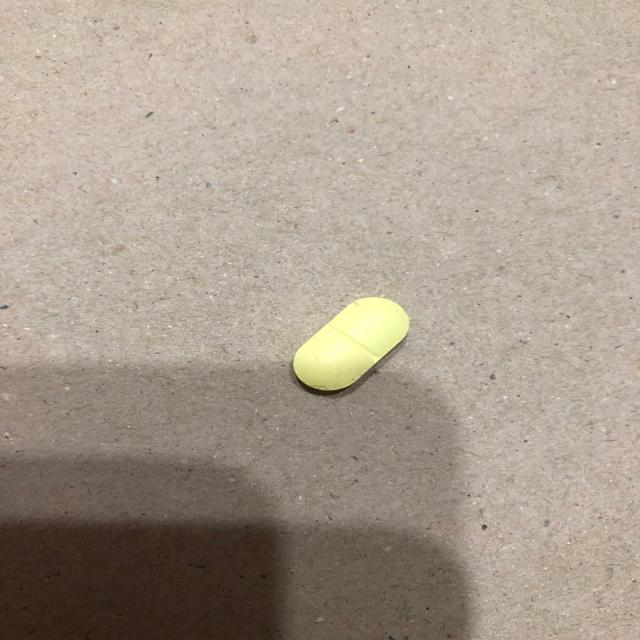pills: (280, 287, 420, 399)
